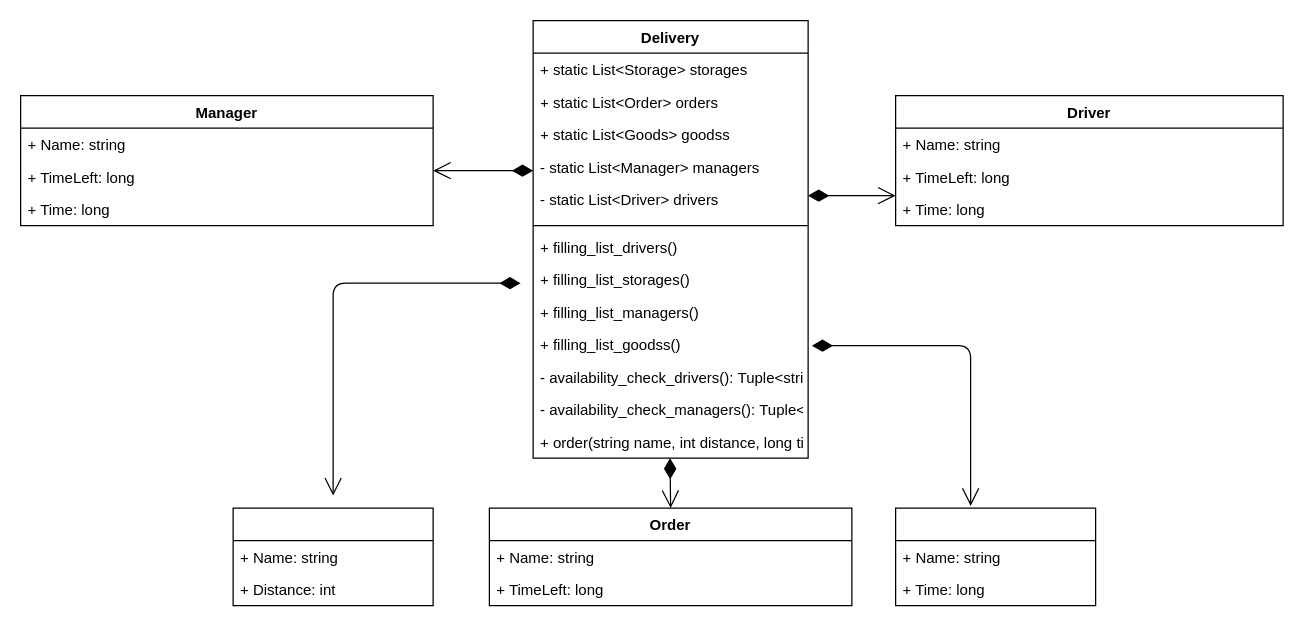
The diagram is 1304 pixels wide and 626 high, and some of its shapes have lost their labels. Each missing label, with the box of its shape:
Goods: (894, 507, 1096, 606)
Storage: (232, 507, 433, 606)
